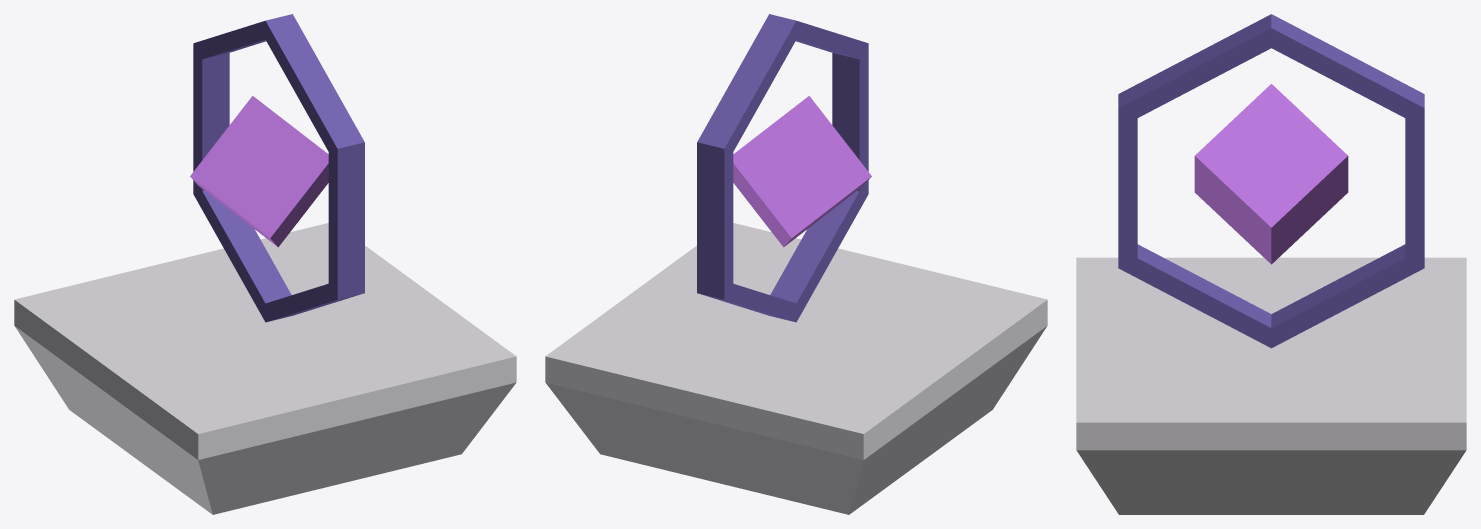
The model's file is wss.glb.
3 views of the same model, side by side, from view 1: azimuth 30°, elevation 25°; view 2: azimuth 150°, elevation 25°; view 3: azimuth 270°, elevation 25° (orthographic). The views are drawn at different scales.
Visible parts, largest first — view 1: Base-WSS, Cube-WSS; view 2: Base-WSS, Cube-WSS; view 3: Base-WSS, Cube-WSS.
Boxes of the visible parts, bbox=[...] form: Base-WSS: bbox=[14, 223, 516, 514]; Cube-WSS: bbox=[190, 14, 364, 322]; Base-WSS: bbox=[545, 223, 1047, 514]; Cube-WSS: bbox=[697, 14, 871, 322]; Base-WSS: bbox=[1076, 257, 1466, 514]; Cube-WSS: bbox=[1118, 14, 1424, 348].
Bounding box in the file's own units: 2.56 × 3.16 × 2.56.
